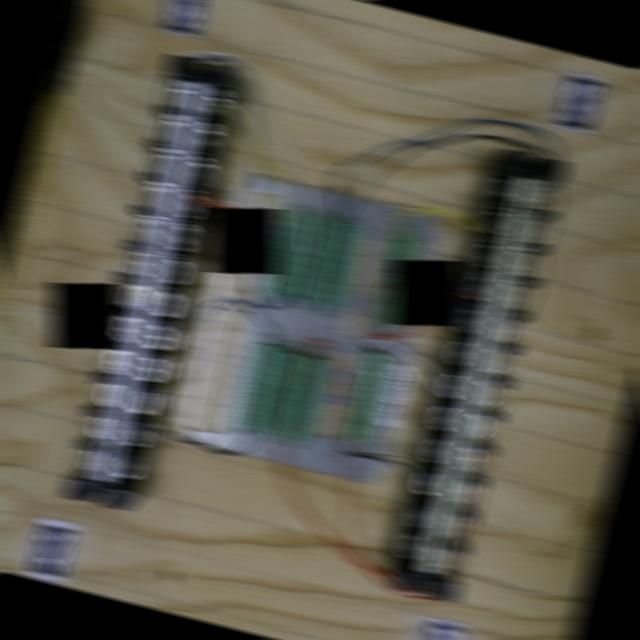Flathead_Block: (392, 146, 567, 602)
Phillips_Block: (63, 53, 235, 511)
Terminal_1: (342, 349, 392, 444), (372, 229, 420, 326)
Terminal_2: (290, 213, 336, 304), (318, 219, 363, 310), (284, 355, 329, 445), (258, 349, 303, 439), (263, 208, 308, 298)
